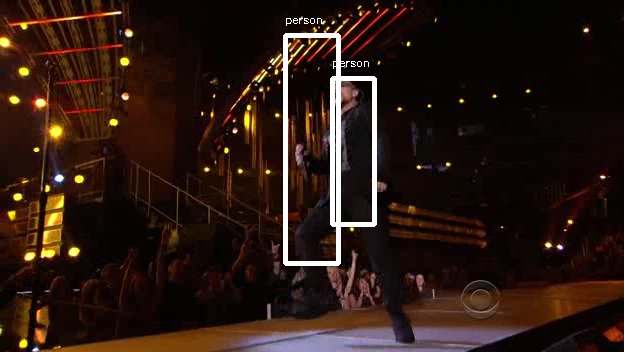person: (310, 77, 380, 220), (307, 77, 377, 220), (313, 77, 383, 220), (310, 74, 380, 217), (310, 80, 380, 223)
target_negative: (212, 16, 501, 172), (421, 14, 512, 307), (510, 30, 588, 241), (263, 112, 305, 303), (206, 284, 432, 309), (99, 277, 250, 279)
